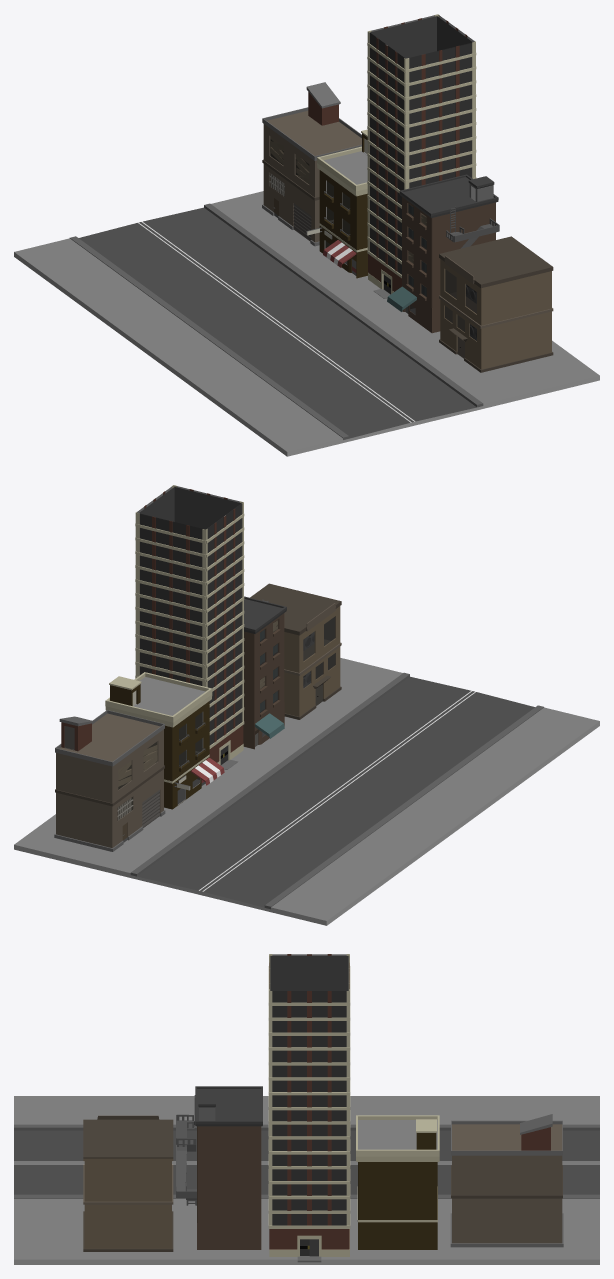
File: Proto-ALL.fbx
3 views of the same model, one above another, from view 1: azimuth 30°, elevation 25°; view 2: azimuth 150°, elevation 25°; view 3: azimuth 270°, elevation 25° (orthographic). The views are drawn at different scales.
Visible parts, largest first — view 1: Road1, NewApt, LaundroMat, OldApt, PawnShopOld, PharmCafe; view 2: Road1, NewApt, PawnShopOld, PharmCafe, LaundroMat, OldApt; view 3: Road1, NewApt, PawnShopOld, LaundroMat, OldApt, PharmCafe.
Part boxes in pixels (x1,y1,x2,y2): Road1: [14, 191, 599, 456]; NewApt: [367, 14, 476, 298]; LaundroMat: [439, 236, 553, 372]; OldApt: [387, 174, 499, 333]; PawnShopOld: [262, 82, 361, 246]; PharmCafe: [306, 129, 367, 278]; Road1: [14, 658, 599, 925]; NewApt: [135, 485, 244, 769]; PawnShopOld: [54, 710, 165, 851]; PharmCafe: [105, 672, 224, 809]; LaundroMat: [250, 583, 341, 719]; OldApt: [243, 596, 286, 749]; Road1: [14, 1096, 599, 1264]; NewApt: [268, 954, 350, 1262]; PawnShopOld: [450, 1114, 563, 1247]; LaundroMat: [83, 1115, 173, 1251]; OldApt: [176, 1086, 262, 1249]; PharmCafe: [356, 1115, 439, 1249].
Size of the model in its own units: 30.11 by 23.07 by 45.16.
